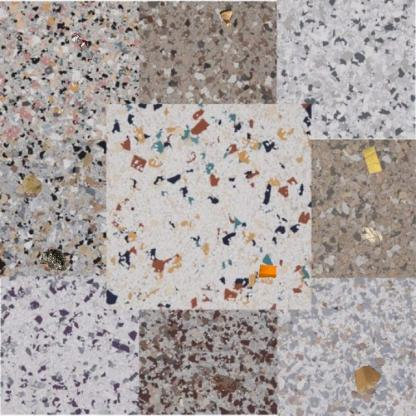dirty: (352, 364, 384, 394), (38, 247, 70, 274), (69, 32, 95, 62), (361, 145, 384, 175), (358, 225, 384, 246), (256, 262, 278, 280), (217, 6, 234, 27)
liquid: (209, 372, 238, 400), (16, 172, 44, 195)
